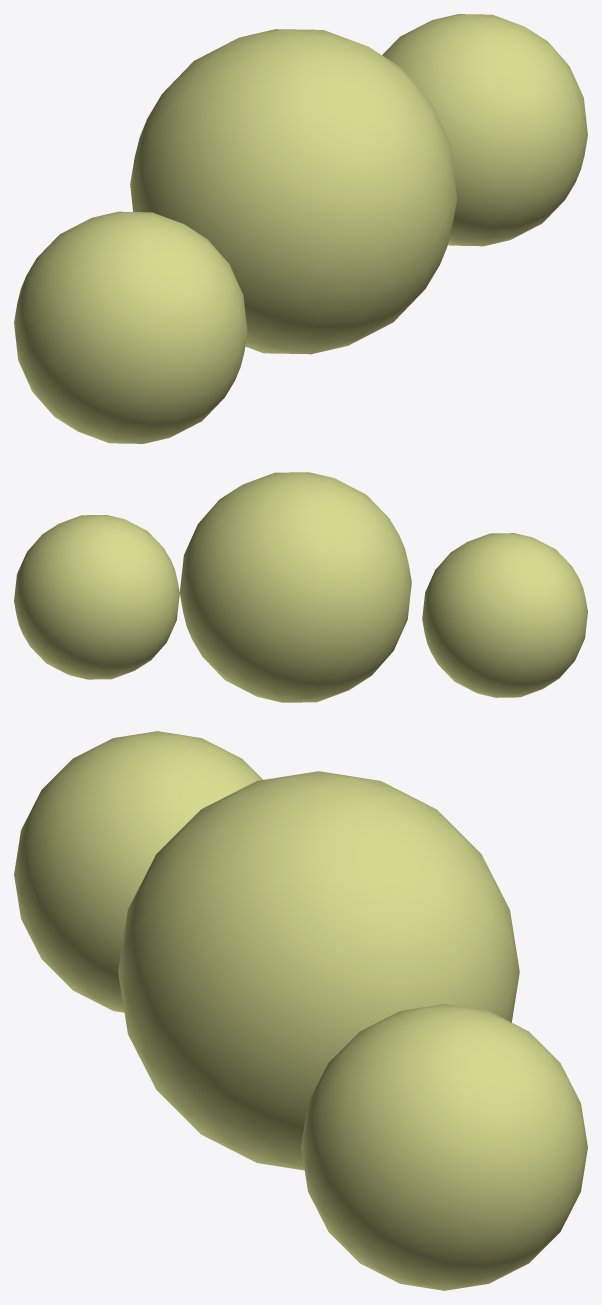
3 renders of one model, top to bottom at view 1: azimuth 30°, elevation 25°; view 2: azimuth 150°, elevation 25°; view 3: azimuth 270°, elevation 25°, orthographic. The views are drawn at different scales.
Visible parts, largest first — view 1: TI033 / individual lustrous pearl 1, TI033 / individual lustrous pearl 0, TI033 / individual lustrous pearl 2; view 2: TI033 / individual lustrous pearl 1, TI033 / individual lustrous pearl 0, TI033 / individual lustrous pearl 2; view 3: TI033 / individual lustrous pearl 1, TI033 / individual lustrous pearl 2, TI033 / individual lustrous pearl 0.
Part boxes in pixels (x1,y1,x2,y2): TI033 / individual lustrous pearl 1: (130,29,457,354); TI033 / individual lustrous pearl 0: (14,211,247,443); TI033 / individual lustrous pearl 2: (382,14,587,246); TI033 / individual lustrous pearl 1: (179,472,411,702); TI033 / individual lustrous pearl 0: (422,533,587,697); TI033 / individual lustrous pearl 2: (14,515,179,679); TI033 / individual lustrous pearl 1: (118,771,519,1170); TI033 / individual lustrous pearl 2: (301,1004,587,1290); TI033 / individual lustrous pearl 0: (14,731,262,1012).
Size of the model in its own units: 2.6 by 1.12 by 1.6.
